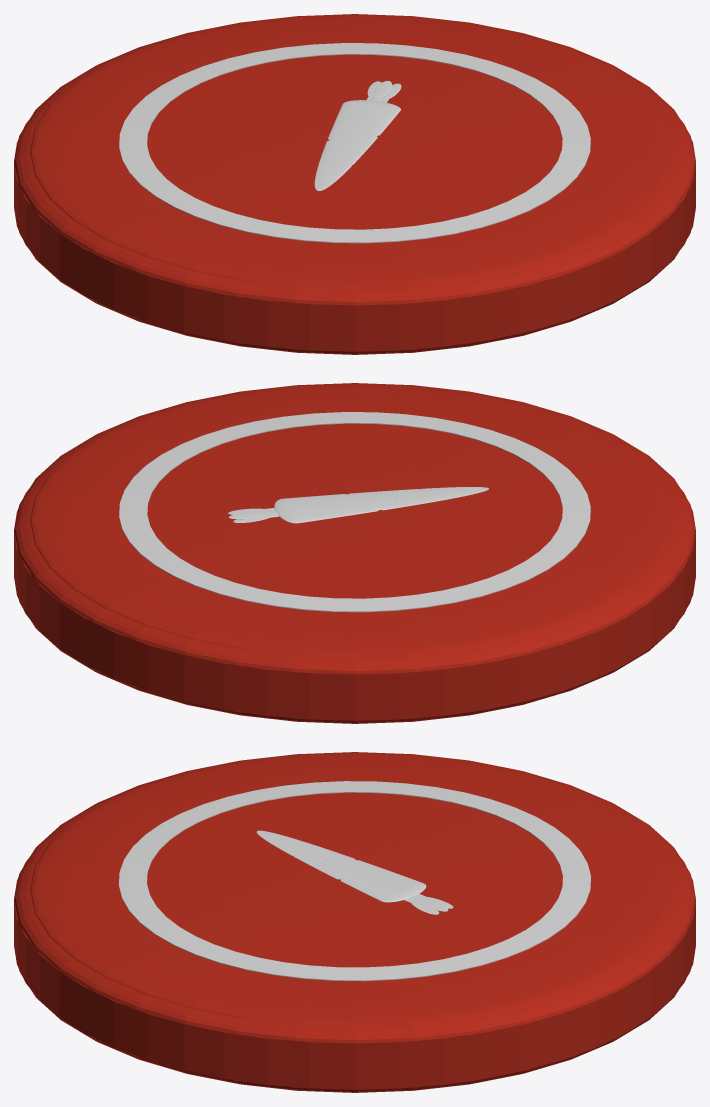
The model's file is frisbee.glb.
3 views of the same model, one above another, from view 1: azimuth 30°, elevation 25°; view 2: azimuth 150°, elevation 25°; view 3: azimuth 270°, elevation 25° (orthographic).
Parts seen in each view (by area): view 1: Mesh_Mesh_head_geo001_lambert2SG001; view 2: Mesh_Mesh_head_geo001_lambert2SG001; view 3: Mesh_Mesh_head_geo001_lambert2SG001.
Part boxes in pixels (bbox=[...]): Mesh_Mesh_head_geo001_lambert2SG001: bbox=[14, 14, 695, 354]; Mesh_Mesh_head_geo001_lambert2SG001: bbox=[14, 383, 695, 723]; Mesh_Mesh_head_geo001_lambert2SG001: bbox=[14, 752, 695, 1092].
Bounding box in the file's own units: 100 × 13.5 × 100.
